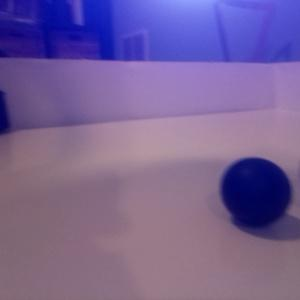dead_ball: (220, 157, 292, 227)
